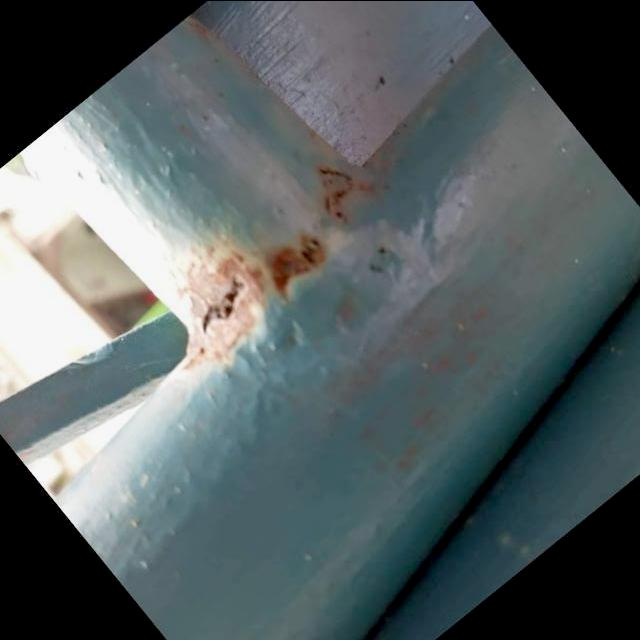defect: (199, 263, 252, 335)
